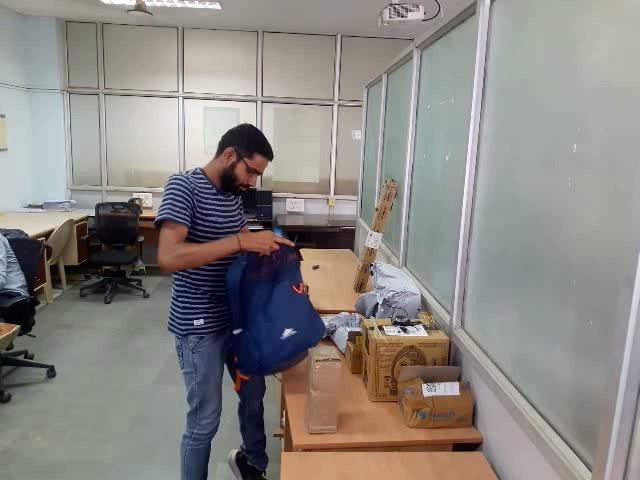shoplifting: (227, 224, 329, 394)
